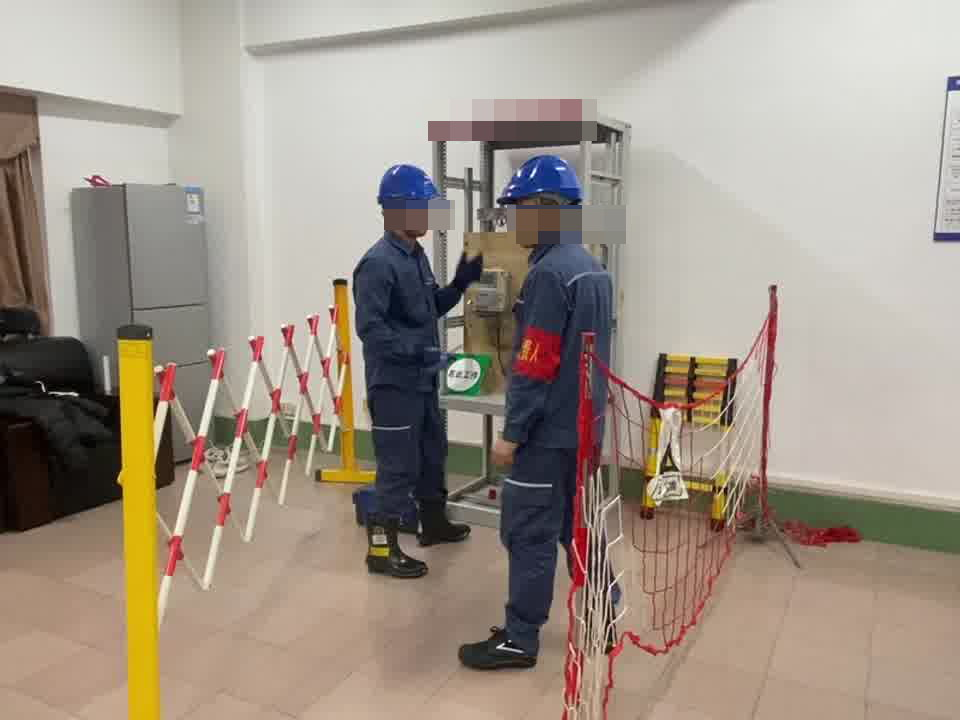badge: (514, 326, 563, 384)
downsuit: (500, 450, 578, 643), (366, 388, 446, 526)
glove: (451, 251, 487, 285), (414, 344, 451, 375)
halt: (499, 153, 585, 242), (374, 162, 444, 238)
hand: (490, 439, 518, 468)
inear: (534, 193, 568, 233), (379, 202, 412, 229)
person: (490, 151, 618, 678), (345, 159, 479, 583)
shoe: (362, 510, 427, 580), (416, 487, 473, 547)
upsuit: (506, 236, 611, 441), (352, 238, 457, 377)
worksign: (443, 352, 491, 398)
